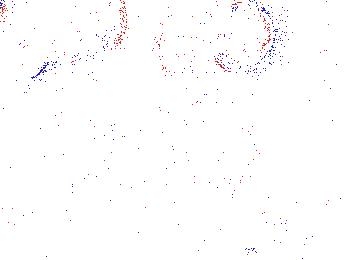moon jellyfish: (6, 1, 127, 58), (157, 1, 231, 82), (207, 1, 275, 75), (1, 21, 53, 101)
